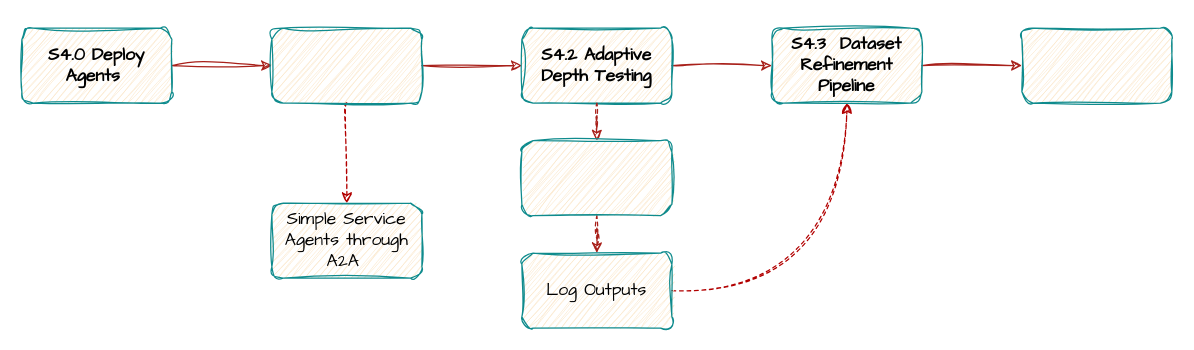
Image size: 1194x350. Some labels were removed from this diagram. The box of each missing label's shape, as (x1, y1, x2, y2) in pixels:
Monitoring & Logging Calls: (521, 139, 672, 216)
S4.1 Setup Discovery Agentic Architecture: (271, 27, 422, 103)
S4.4 Output Orchestrator Training Dataset: (1021, 27, 1172, 103)
